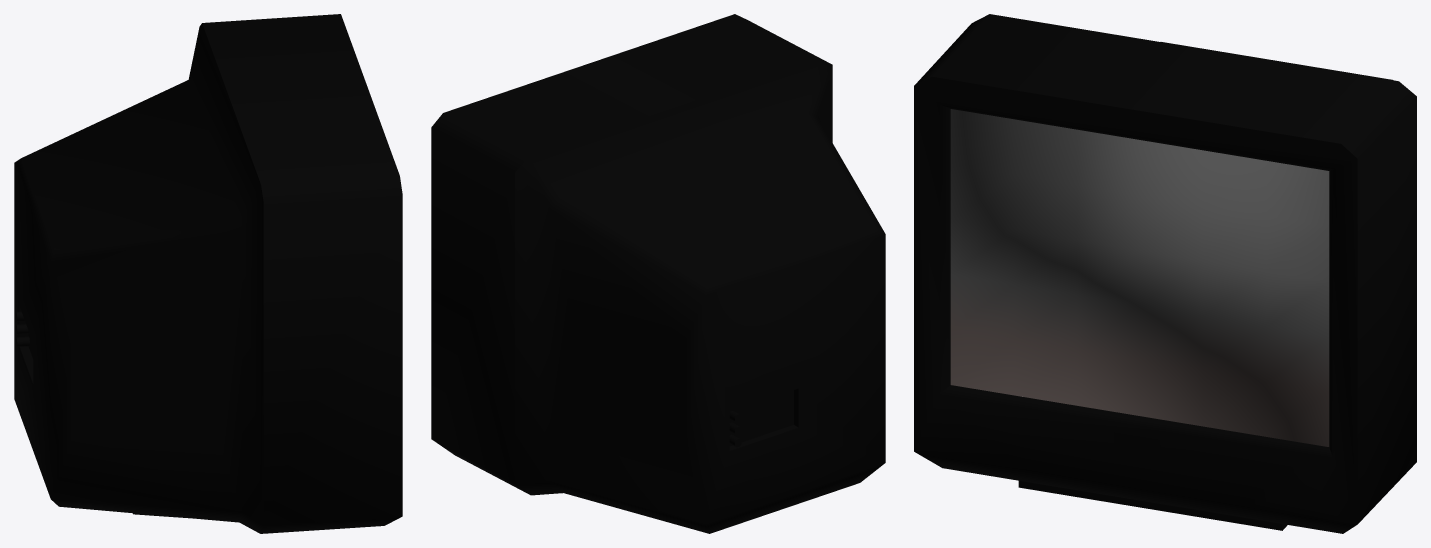
3 views of the same model, side by side, from view 1: azimuth 30°, elevation 25°; view 2: azimuth 150°, elevation 25°; view 3: azimuth 270°, elevation 25° (orthographic). The views are drawn at different scales.
Visible parts, largest first — view 1: Joint_0_Object_0, Joint_0_Object_2; view 2: Joint_0_Object_0, Joint_0_Object_2; view 3: Joint_0_Object_0, Joint_0_Object_1.
Boxes of the visible parts, x1,y1,x2,y2 form: Joint_0_Object_0: (14, 14, 402, 533); Joint_0_Object_2: (74, 317, 218, 439); Joint_0_Object_0: (431, 14, 885, 533); Joint_0_Object_2: (569, 308, 686, 450); Joint_0_Object_0: (914, 14, 1416, 533); Joint_0_Object_1: (950, 109, 1329, 446).
Bounding box in the file's own units: 684 × 630 × 693.
Materials: 3 (2 with a texture image).
